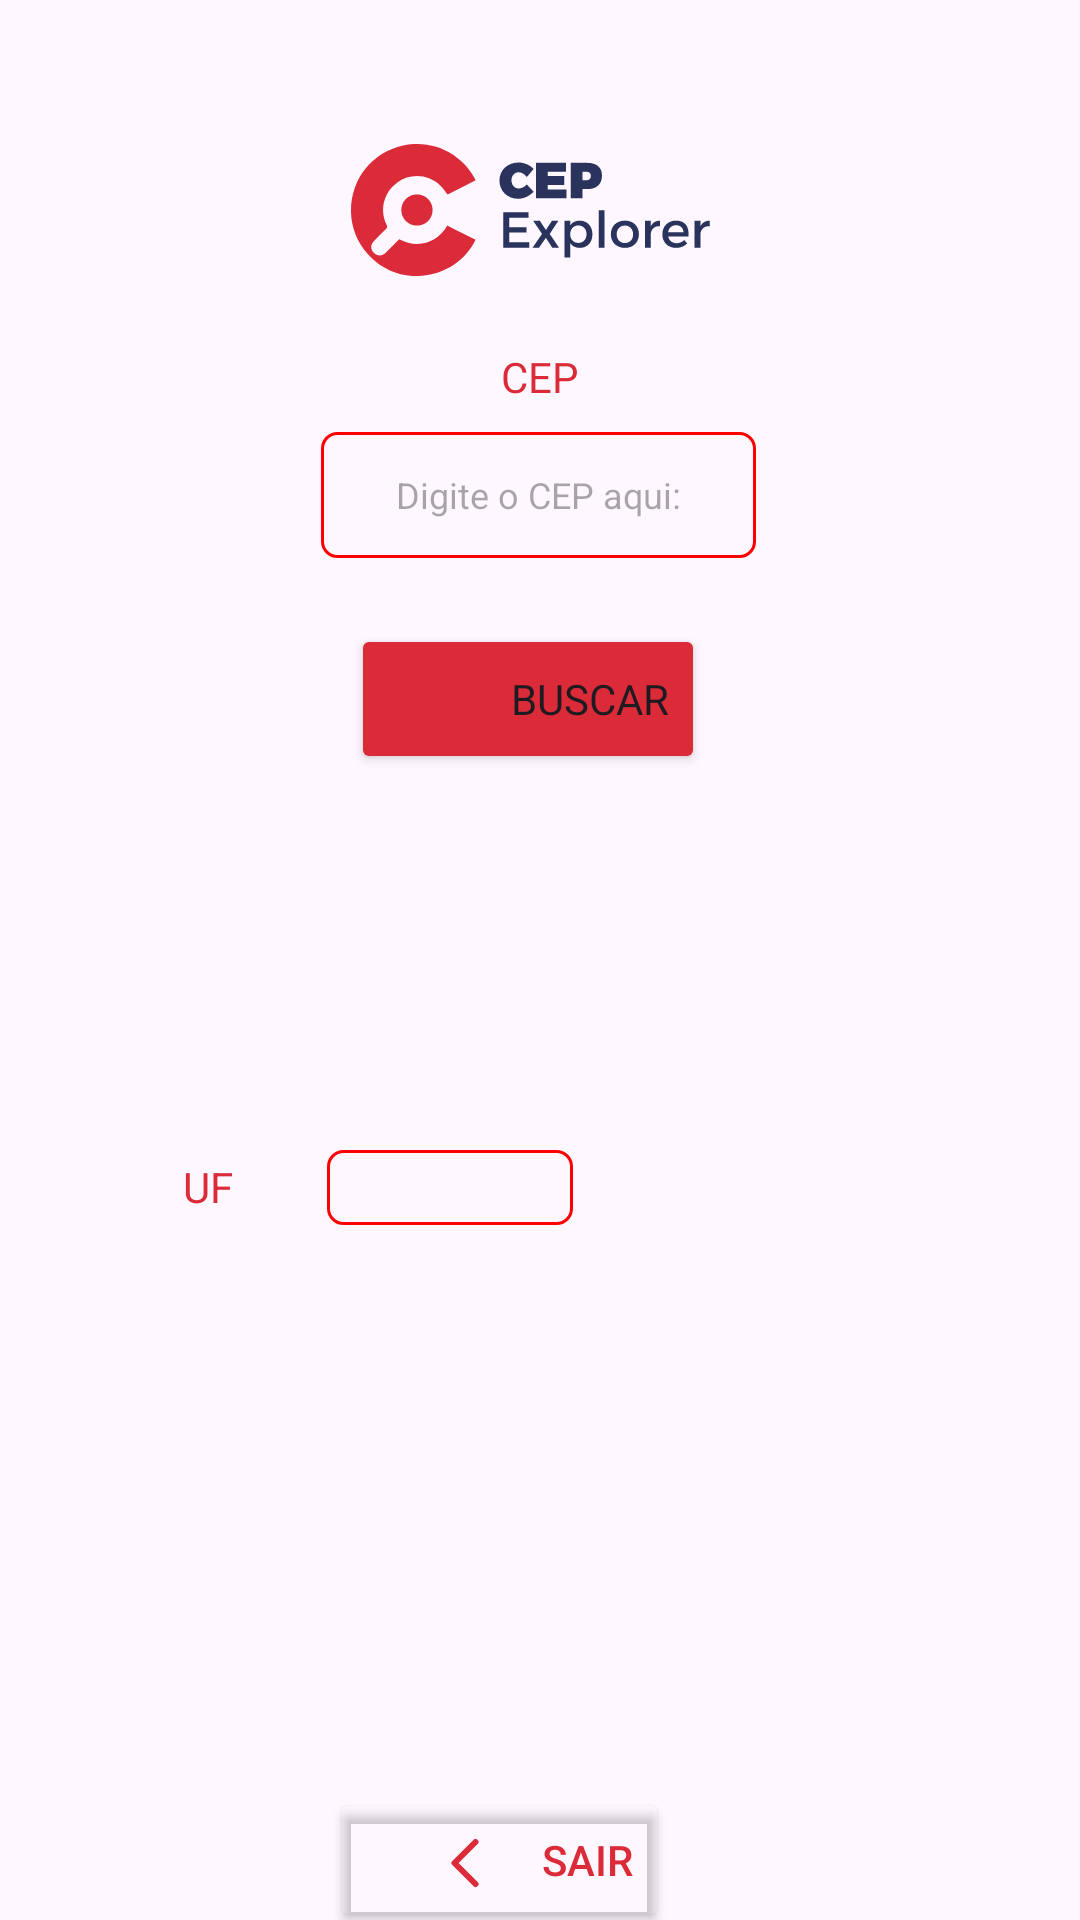

Named icons in this screenshot (1080*1920) and their bounding boxes, (x1, y1, x2, y2):
chevron left: (451, 1838, 479, 1888)
